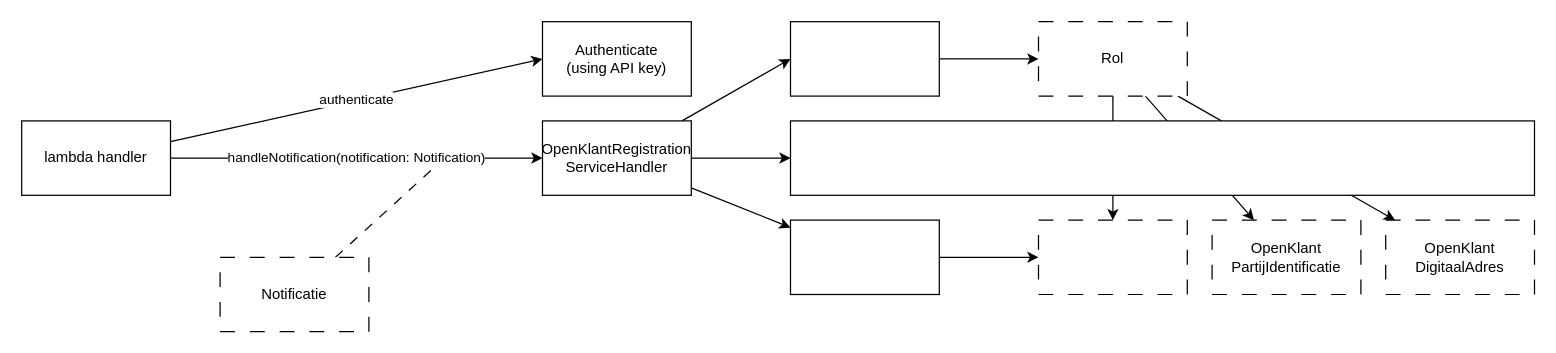
Image size: 1556x353. Some labels were removed from this diagram. Each missing label, with the centre of its shape:
"MijnZakenApi" belongs at pixel 864 58.
"OpenKlantApi" belongs at pixel 864 256.
"OpenKlantMapper" belongs at pixel 1161 157.
"OpenKlantPartij" belongs at pixel 1112 256.
